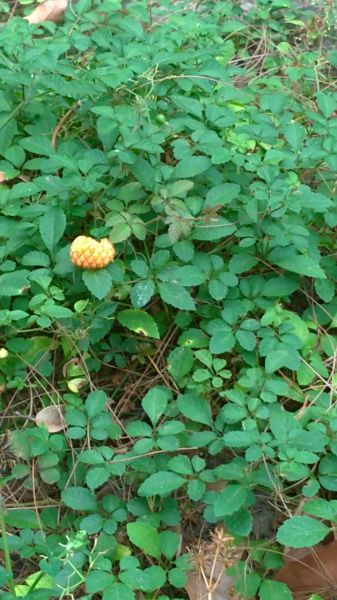eggs: (65, 234, 119, 273)
